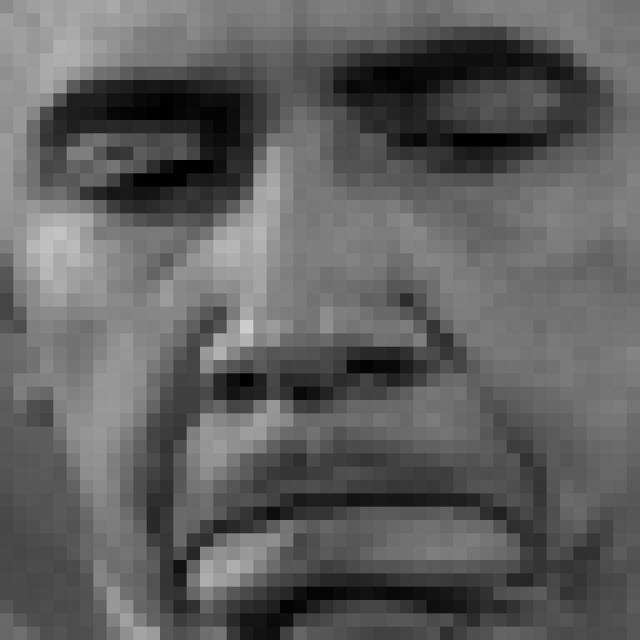sad: (24, 14, 604, 640)
